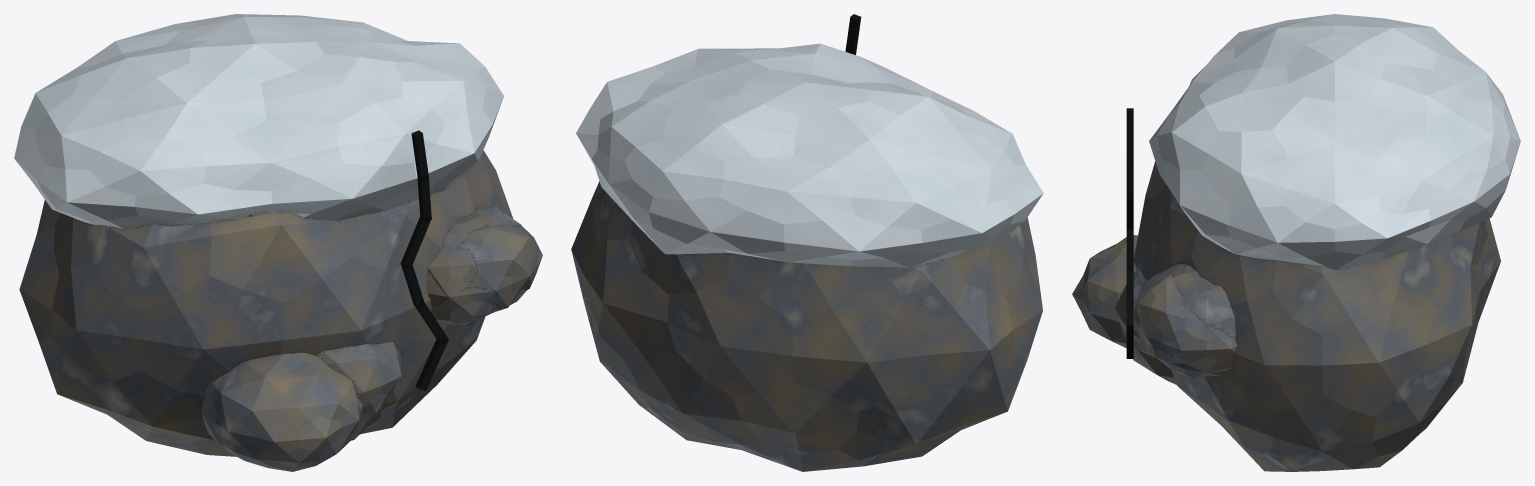
File: vault_wall_snow.glb
3 renders of one model, left to right at view 1: azimuth 30°, elevation 25°; view 2: azimuth 150°, elevation 25°; view 3: azimuth 270°, elevation 25°, orthographic. The views are drawn at different scales.
Visible parts, largest first — view 1: vault_wall_snow; view 2: vault_wall_snow; view 3: vault_wall_snow.
Boxes of the visible parts, x1,y1,x2,y2 form: vault_wall_snow: (14, 14, 542, 471); vault_wall_snow: (571, 14, 1043, 471); vault_wall_snow: (1072, 14, 1520, 471).
Bounding box in the file's own units: 2.02 × 1.73 × 1.86.
Materials: 3 (3 with a texture image).
